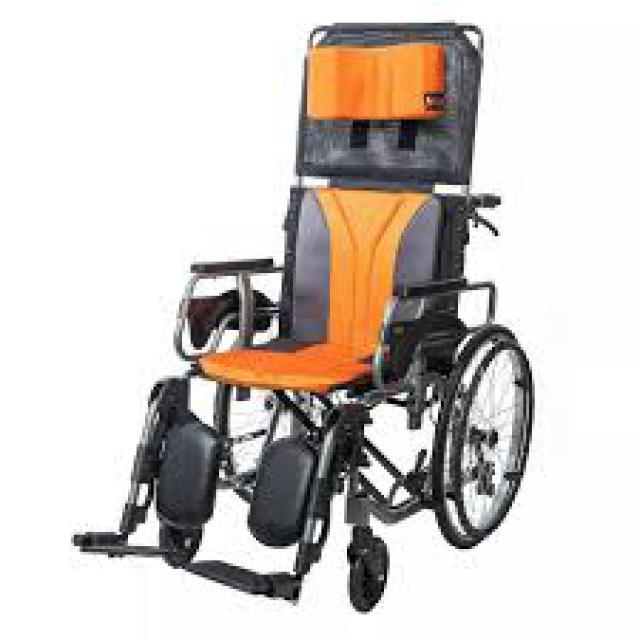wheelchair: (66, 11, 544, 628)
